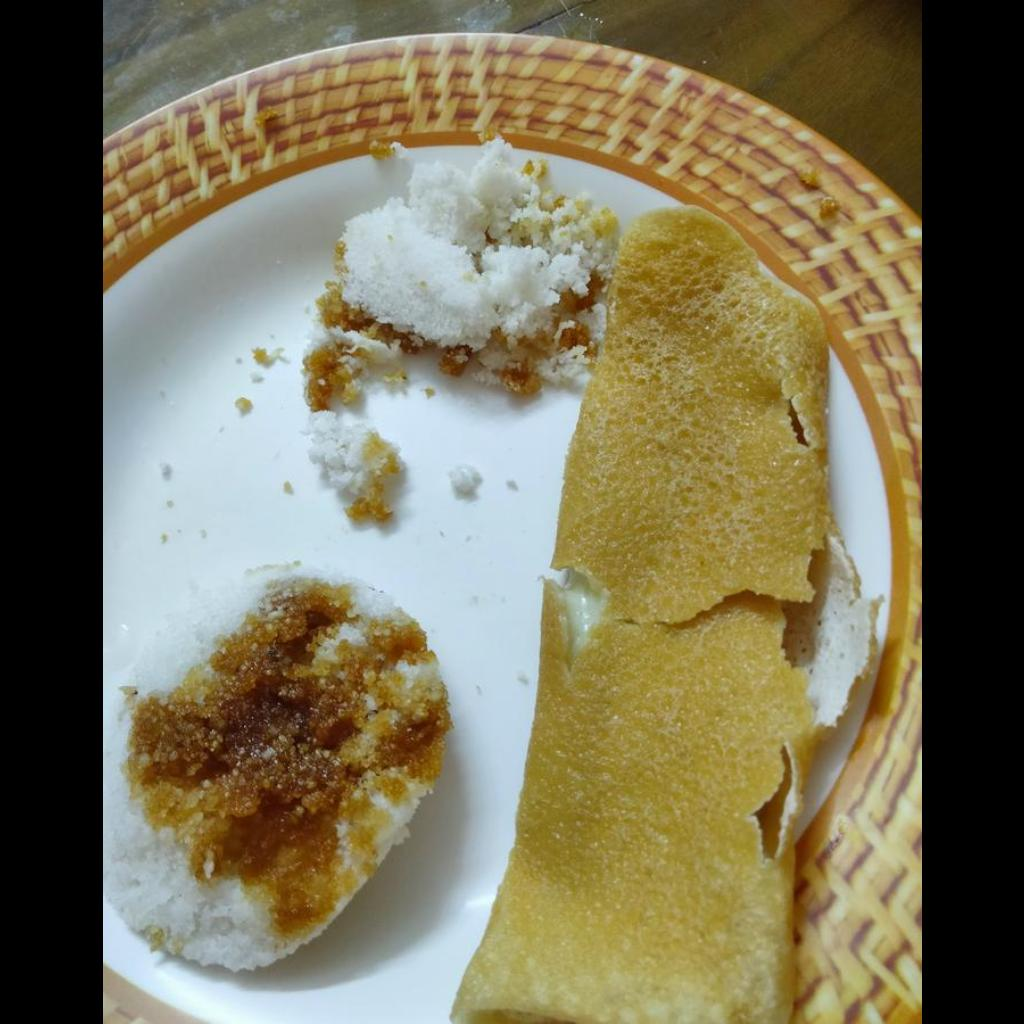sweets: (451, 207, 876, 1023), (102, 573, 450, 969), (301, 140, 619, 523)
